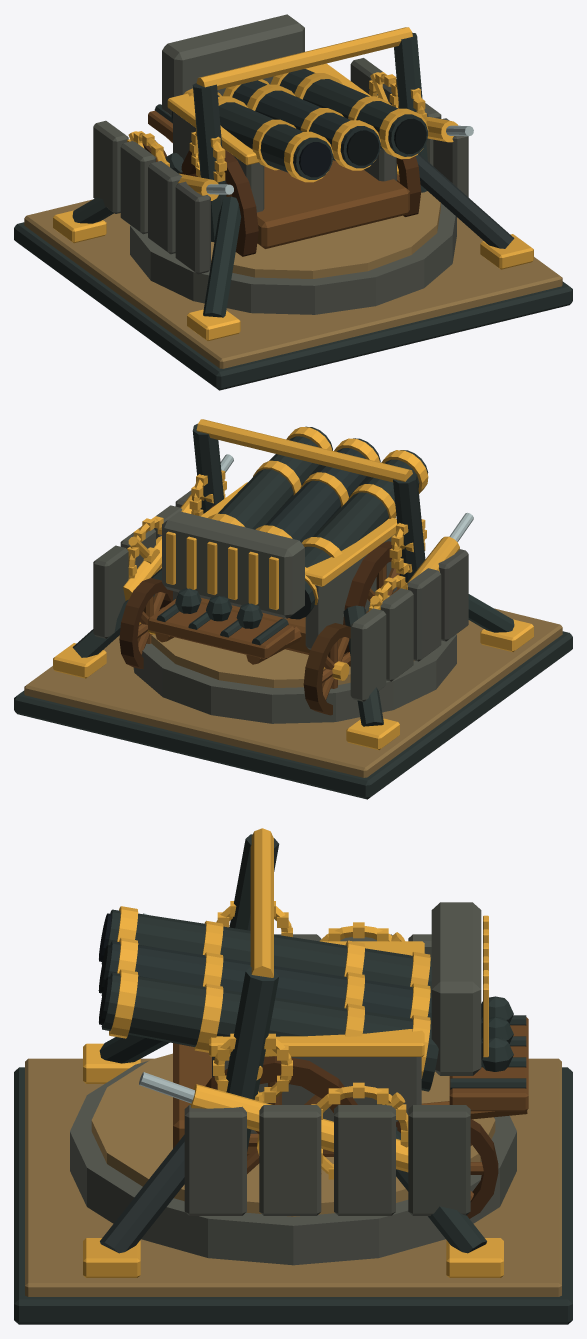
3 renders of one model, top to bottom at view 1: azimuth 30°, elevation 25°; view 2: azimuth 150°, elevation 25°; view 3: azimuth 270°, elevation 25°, orthographic. The views are drawn at different scales.
Parts seen in each view (by area): view 1: cannon_level12_structure, cannon_level12_metal; view 2: cannon_level12_structure, cannon_level12_metal; view 3: cannon_level12_structure, cannon_level12_metal.
Boxes of the visible parts, x1,y1,x2,y2 form: cannon_level12_structure: (14, 14, 572, 390); cannon_level12_metal: (53, 27, 533, 340); cannon_level12_structure: (14, 423, 572, 799); cannon_level12_metal: (53, 419, 533, 749); cannon_level12_structure: (14, 834, 572, 1324); cannon_level12_metal: (83, 828, 503, 1277).
Bounding box in the file's own units: 3.6 × 2.22 × 3.6.
